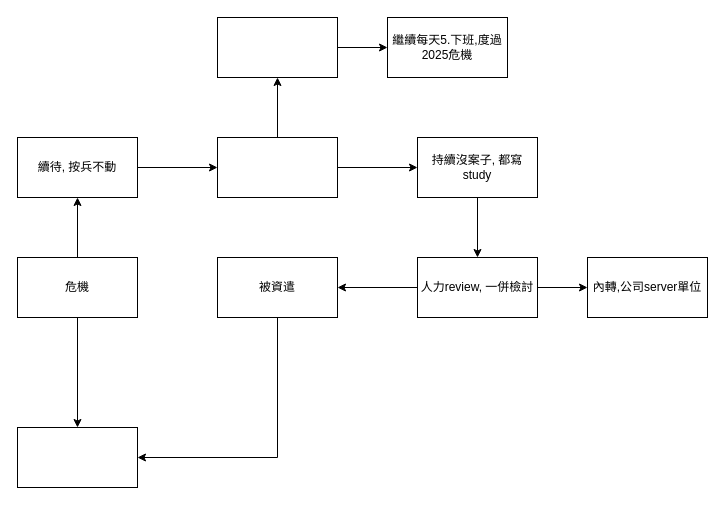
Some shapes in this 725 by 505 pixel diagram are drawn without their labels. Here are the shapes that lost their labels. From the top down, the centre of each, then its label:
At pixel 277 47: "新案子,進來,危機解除".
At pixel 277 167: "有案子就坐, 沒案子就study".
At pixel 77 457: "主動應徵外面工作".
